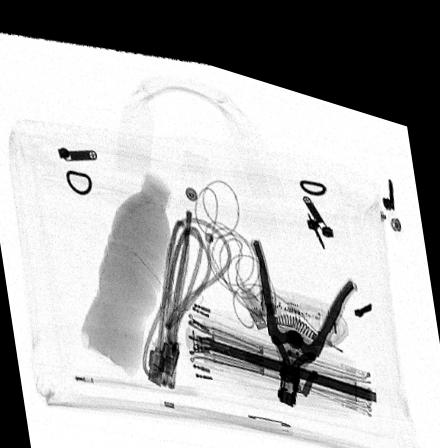Pliers: (253, 224, 358, 391)
